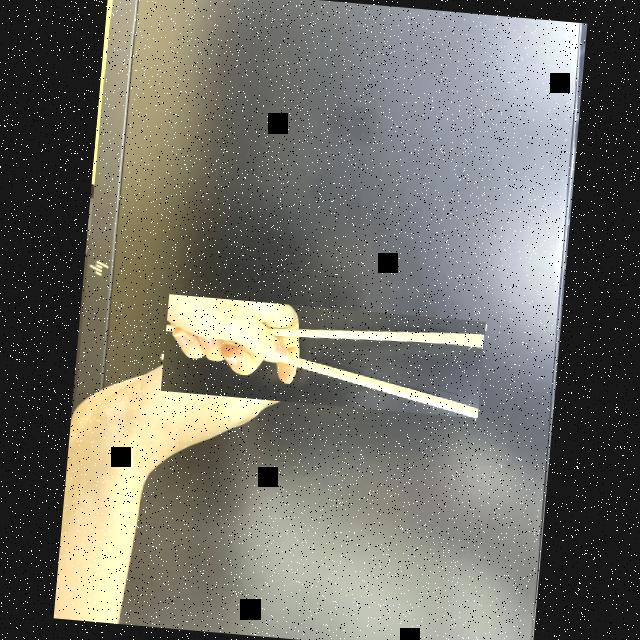stick: (160, 294, 486, 418)
